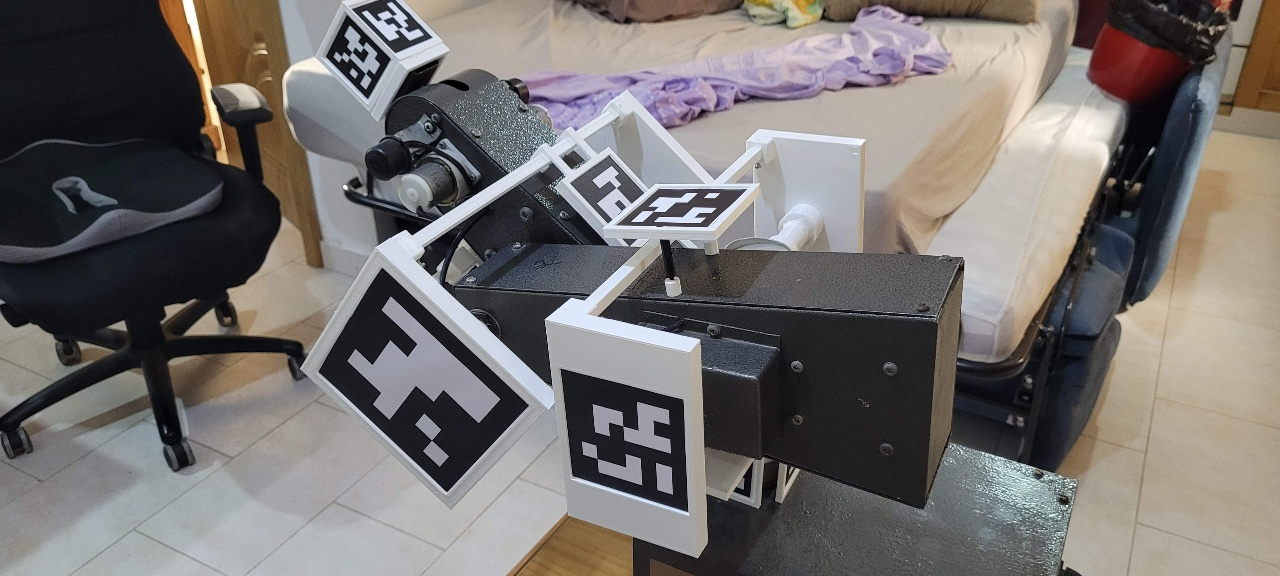Robot: (299, 1, 966, 560)
